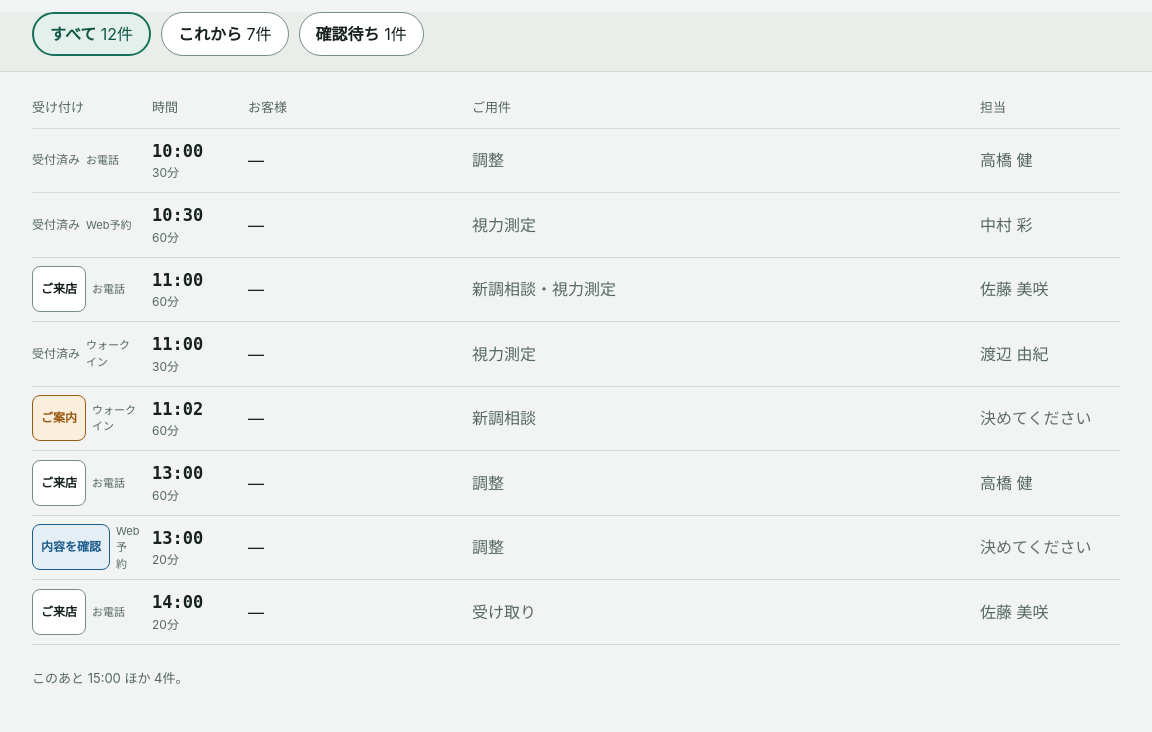
it: 予約リスト › 「これから」を押すと、現在時刻までに始まった行が消えて件数と一致する
Click the button "これから 7件" at (225, 34), box [161,12,289,56]
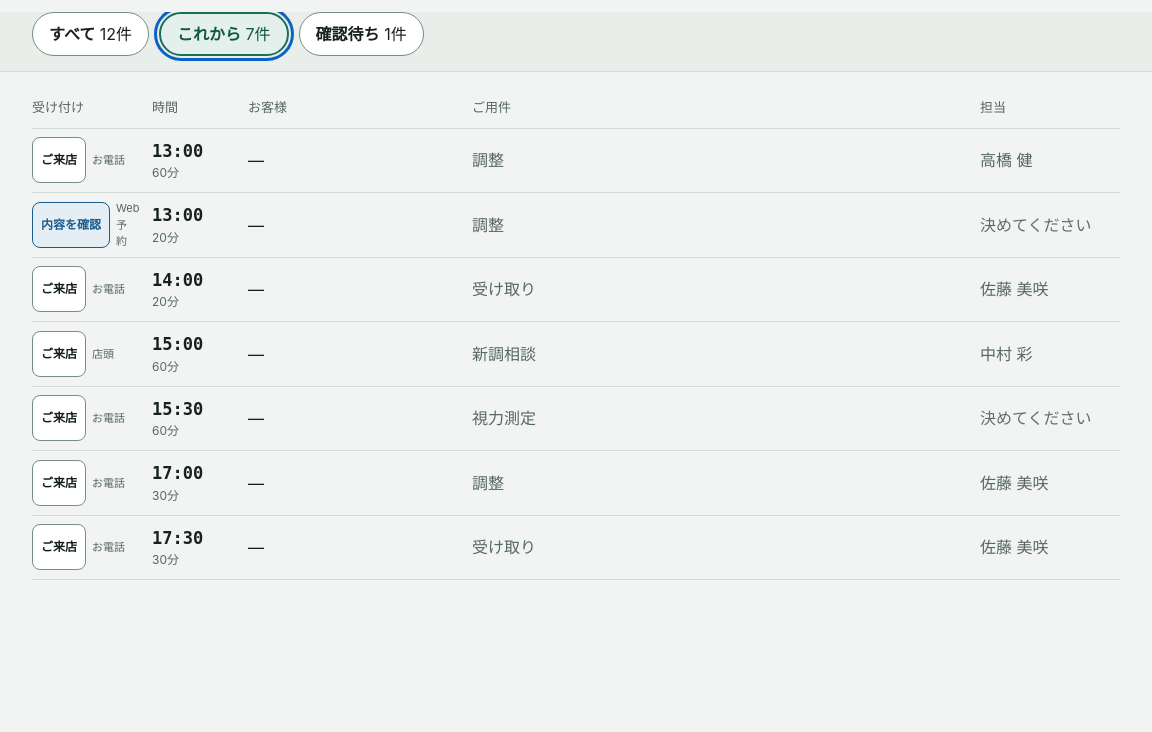
Expected: the text "このあと" is gone
